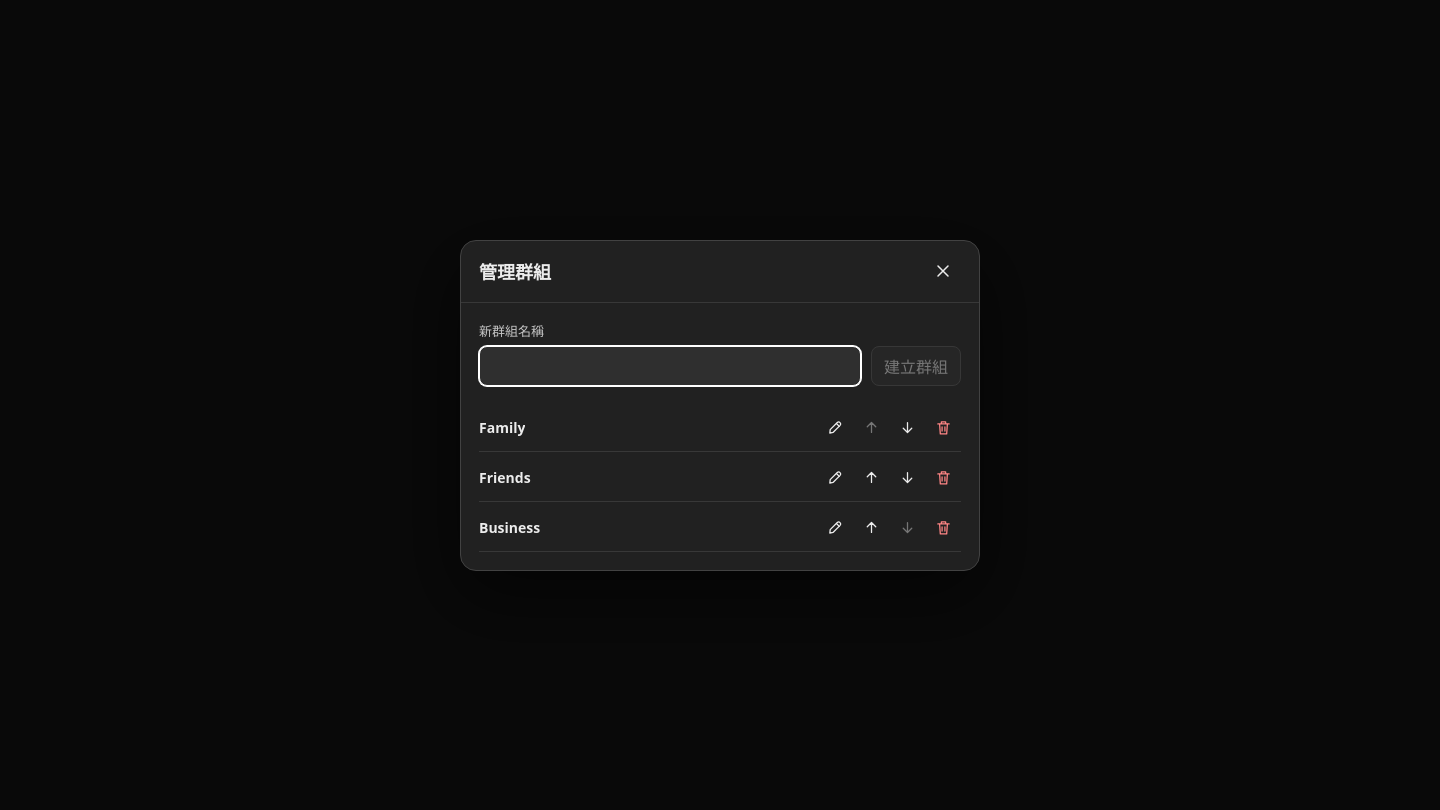
Test: GroupManagerDialog › does not expose raw English backend errors in zh-TW
The width and height of the screenshot is (1440, 810).
Type "鄰居" into the field labelled "新群組名稱" at (670, 366), box [479, 346, 861, 386]
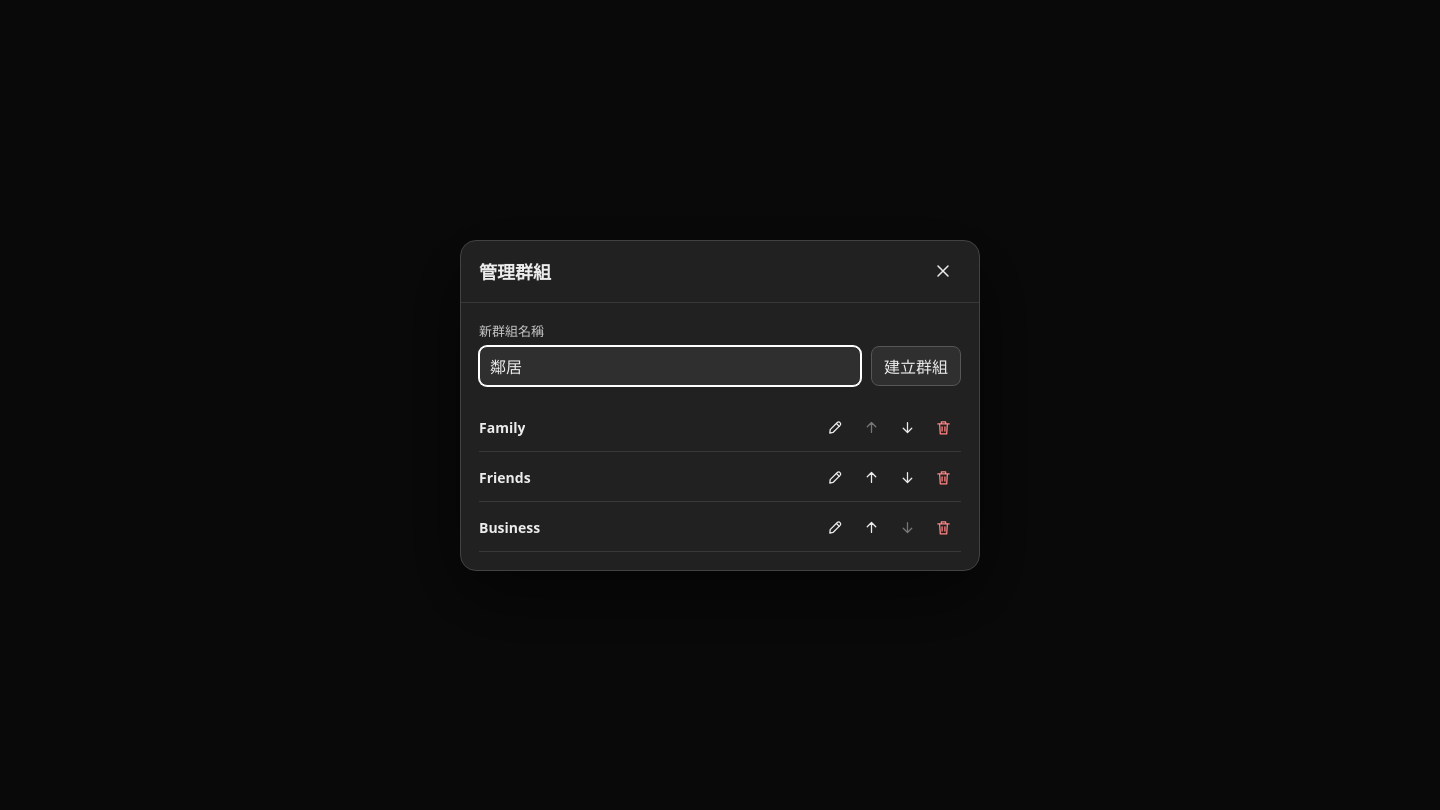
Click the button "建立群組" at (916, 366), box [871, 346, 961, 386]
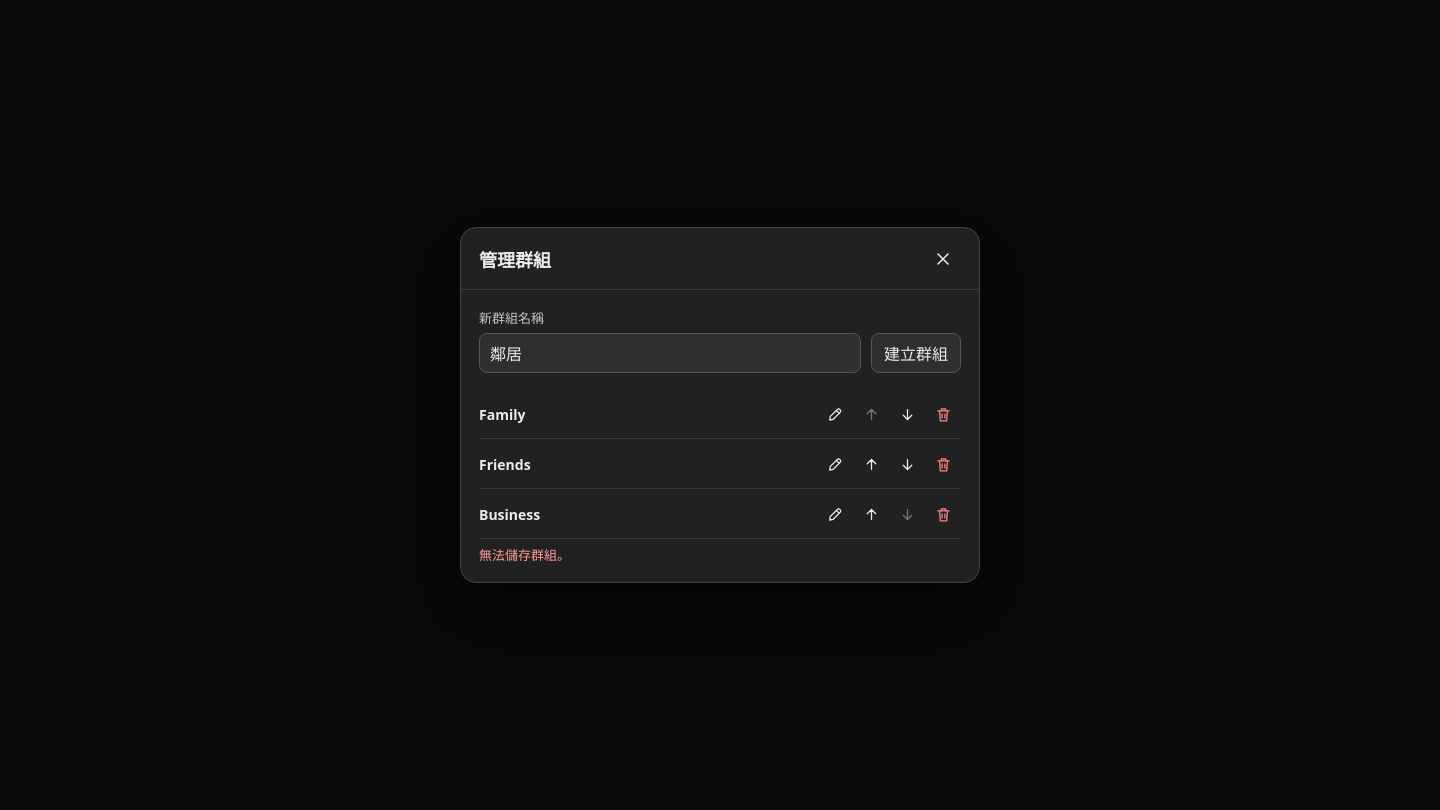
Check: the message reads "無法儲存群組。", box [479, 546, 570, 564]
